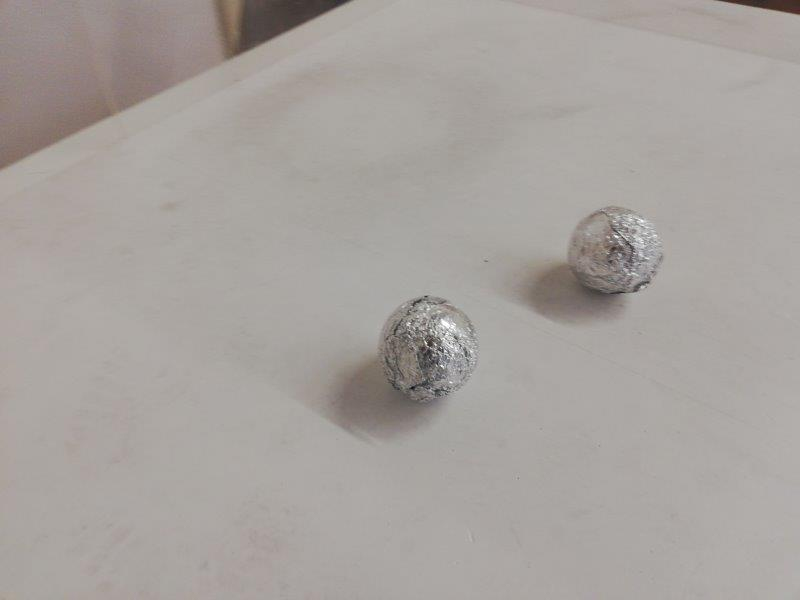bianca: (377, 292, 482, 406), (568, 205, 663, 295)
